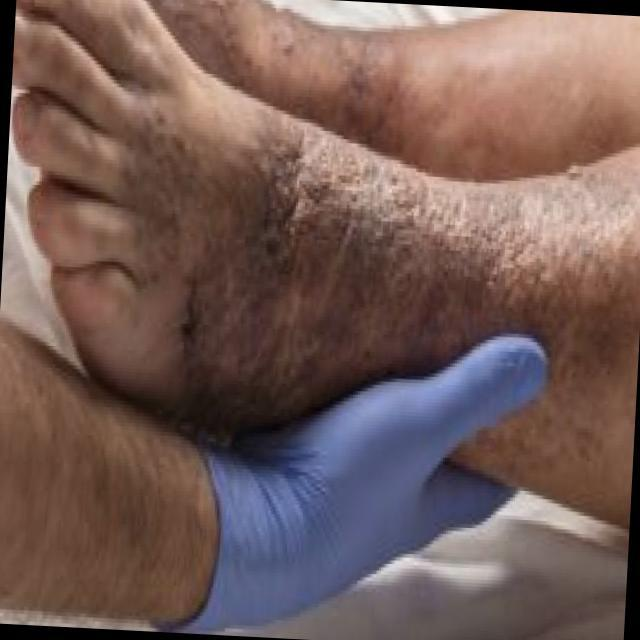Eczema: (138, 97, 627, 434)
